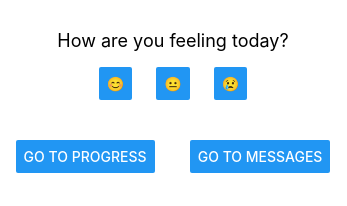
Test case: CheckInScreen › allows user to check in and shows feedback
Click the button "😊": point(116, 83) [99,66,132,100]
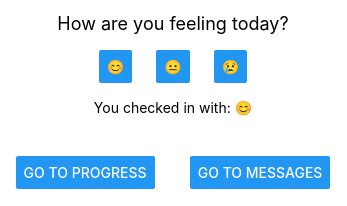
Result: the text "You checked in with: 😊" is shown at [94,99,252,116]
